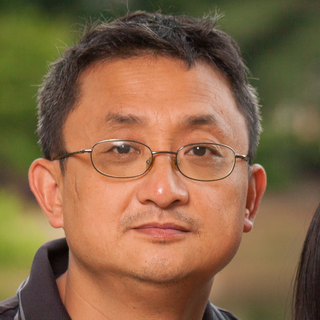eye: (176, 140, 224, 163), (99, 140, 144, 161)
